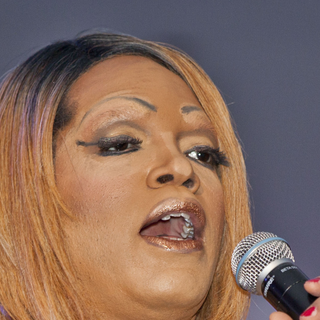eye: (88, 134, 143, 160), (183, 141, 224, 173)
